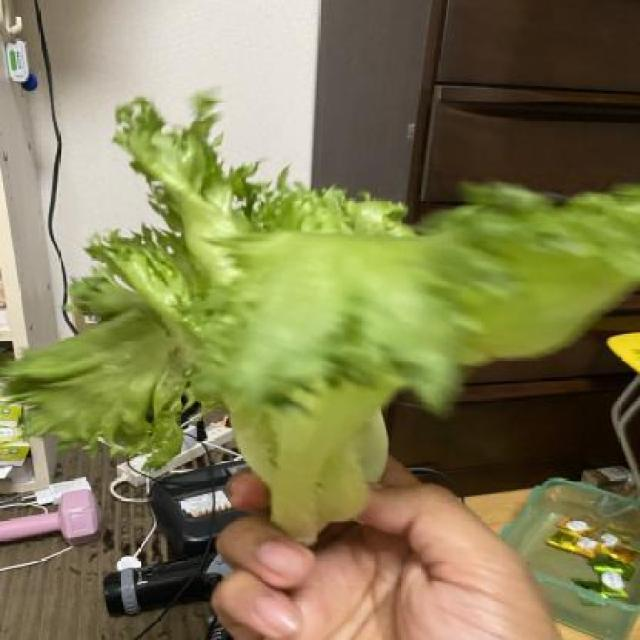Lettuce: (0, 92, 640, 549)
